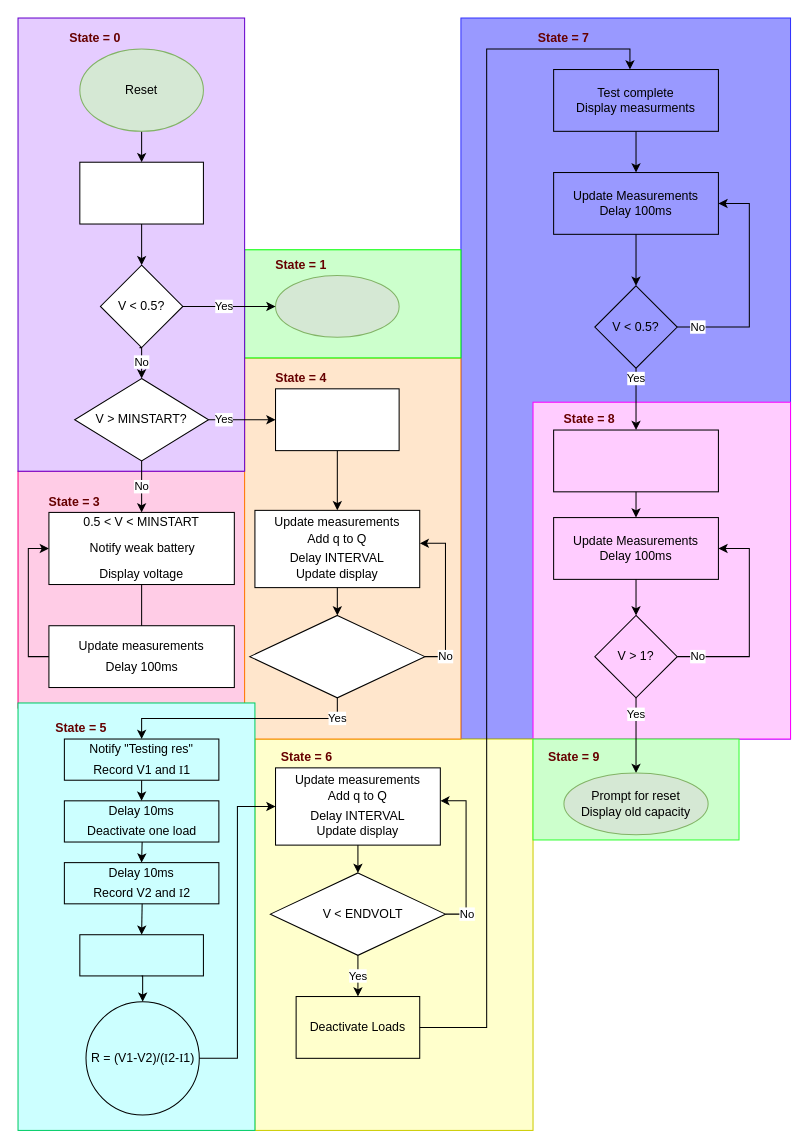
This 809x1148 diagram has some shape labels left out. Each missing label, with the box of its shape:
Activate both loads: (274, 388, 399, 451)
Check voltage: (79, 161, 203, 224)
Prompt for reset: (274, 274, 399, 337)
Prompt to insert new cell Display measurements: (553, 429, 718, 492)
Reactivate load: (79, 934, 203, 976)
V < RESCHECKVOLT: (249, 614, 425, 698)
